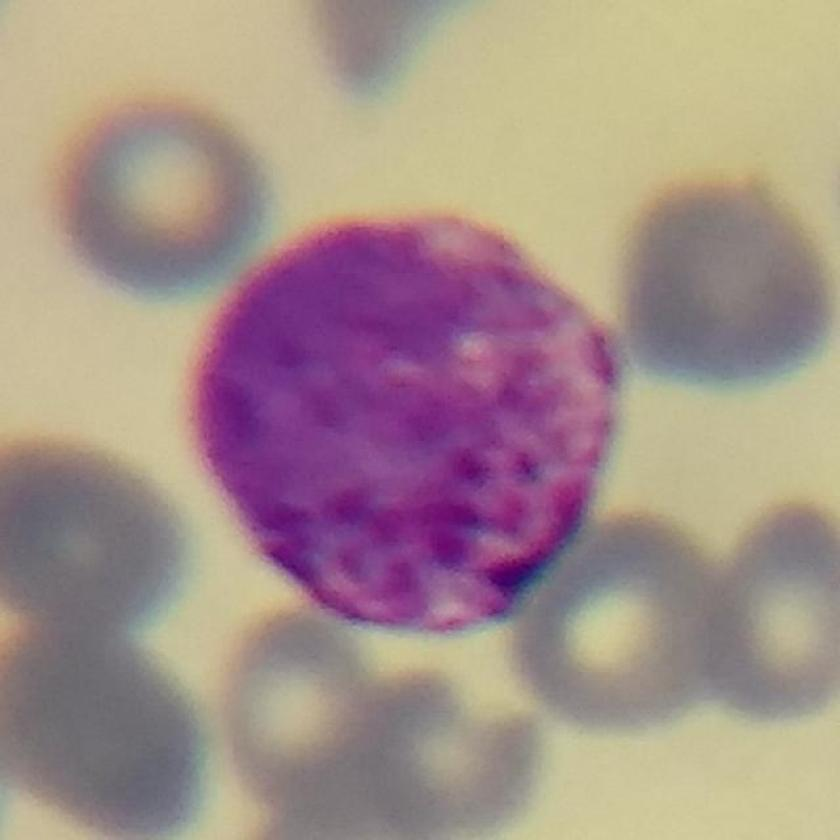basophil: (185, 206, 639, 632)
